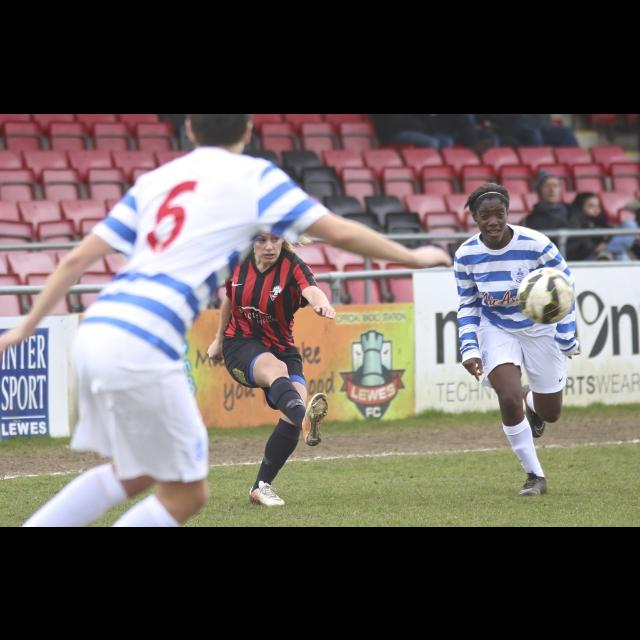Football: (516, 265, 572, 323)
